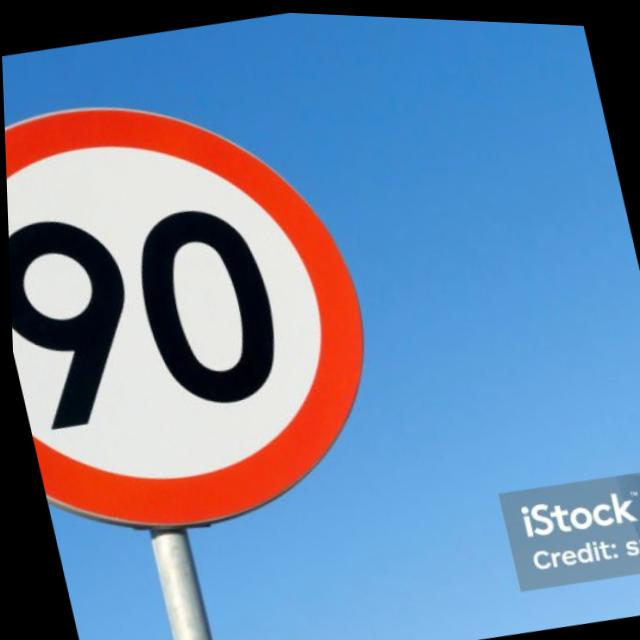Speed Limit -90-: (2, 58, 399, 566)
